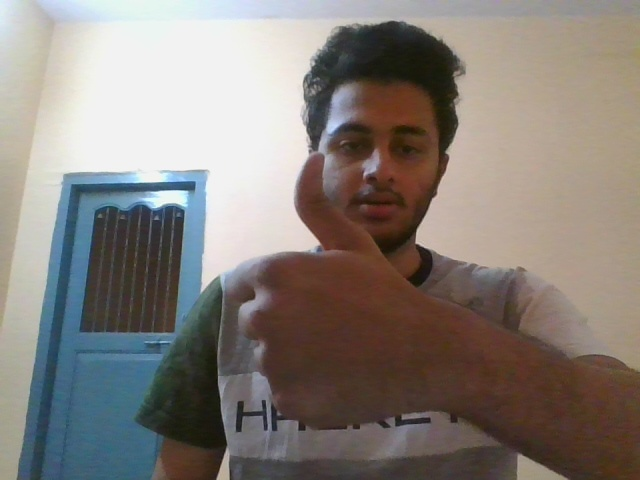Thumbsup: (229, 149, 434, 431)
